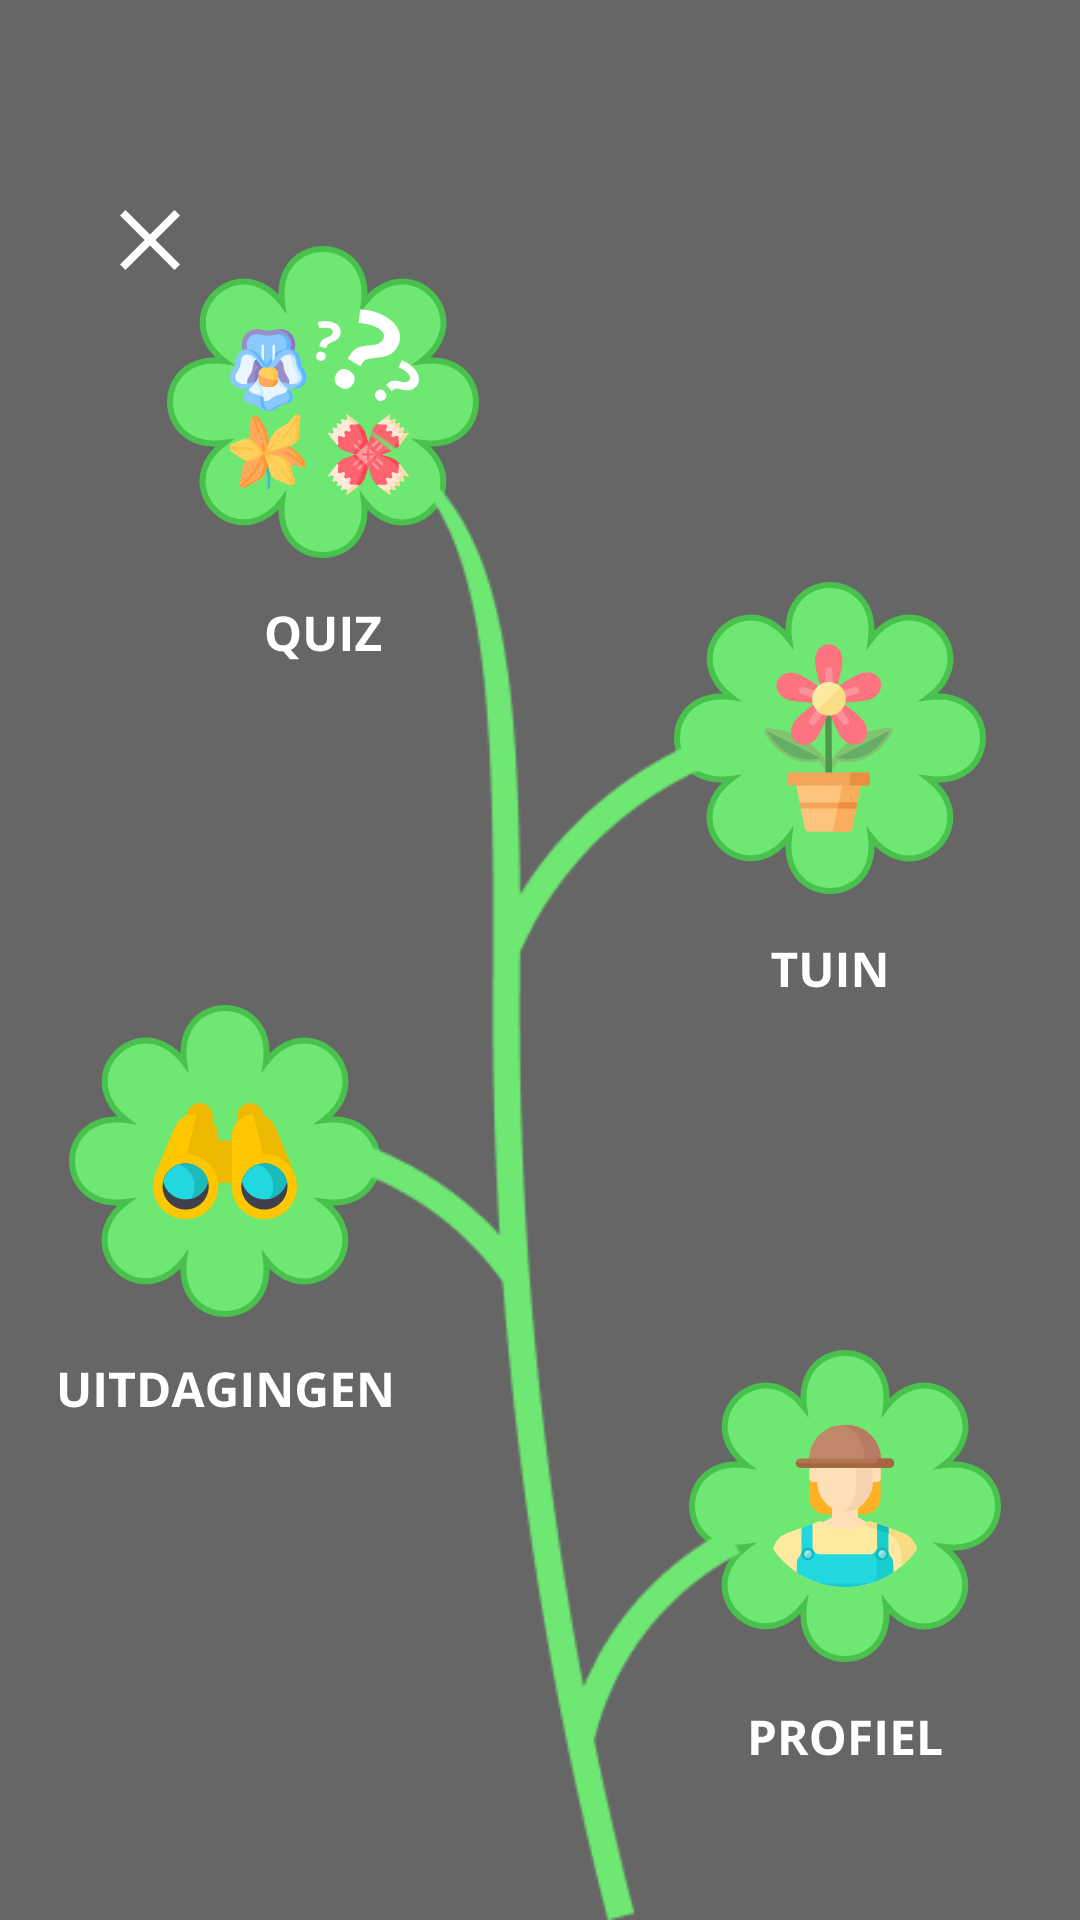

Screen size 1080px x 1920px. Icon name, then its box in pixels as [x1,y1,x2,y2]:
close: [120,210,180,270]
